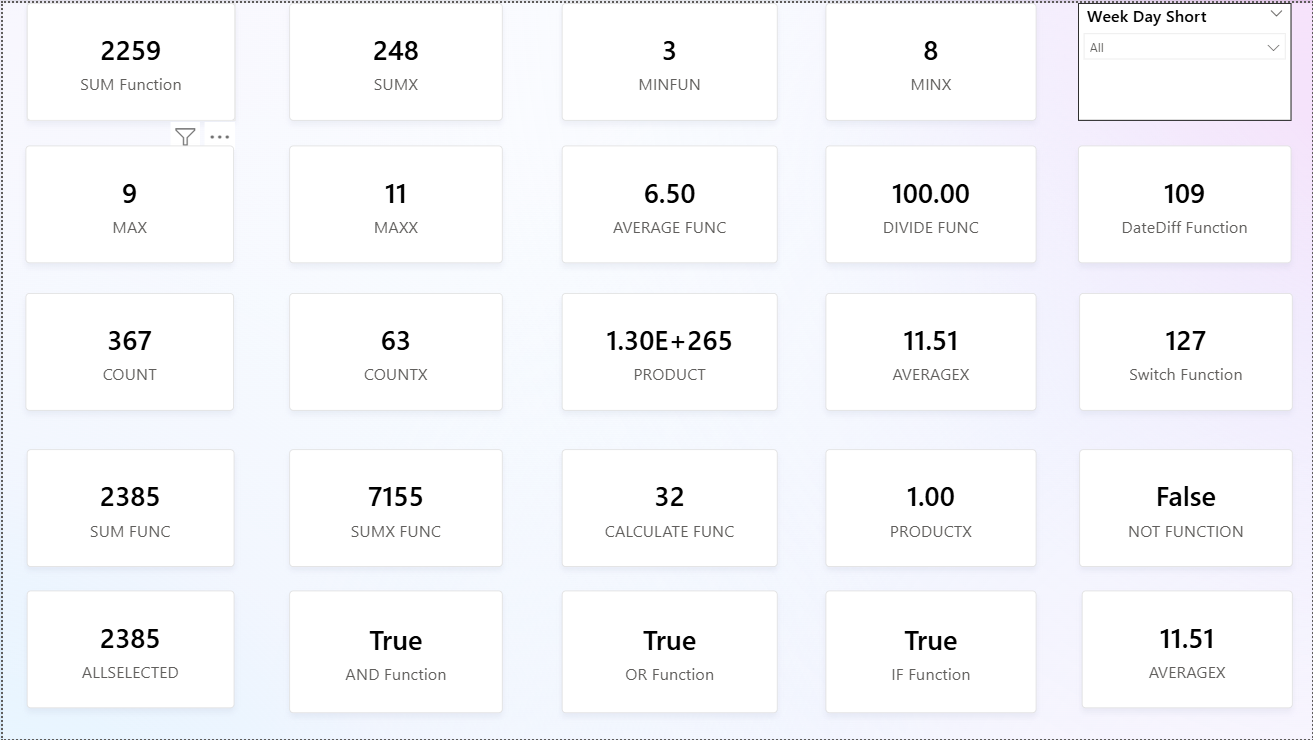

This screenshot's page, from the dashboard's own definition file:
{"tool":"powerbi","page":{"name":"DAX 1","canvas":[1280,720],"ordinal":0},"visuals":[{"type":"card","fields":{"Values":["Date Table.SUM Function"]},"box":[23.2,0,204.2,114.9],"z":0},{"type":"card","fields":{"Values":["Measures Table.SUMX"]},"box":[280,0,209.1,114.9],"z":1000},{"type":"card","fields":{"Values":["Measures Table.MINFUN"]},"box":[546.6,0,211.6,114.9],"z":2000},{"type":"card","fields":{"Values":["Measures Table.MINX"]},"box":[804.6,0,206.7,114.9],"z":3000},{"type":"card","fields":{"Values":["Measures Table.MAX"]},"box":[22,139.4,204.2,114.9],"z":4000},{"type":"card","fields":{"Values":["Measures Table.MAXX"]},"box":[280,139.4,209.1,114.9],"z":5000},{"type":"card","fields":{"Values":["Measures Table.AVERAGE FUNC"]},"box":[546.6,139.4,211.6,114.9],"z":6000},{"type":"card","fields":{"Values":["Measures Table.AVERAGEX"]},"box":[804.6,283.7,206.7,114.9],"z":7000},{"type":"card","fields":{"Values":["Measures Table.COUNT"]},"box":[22,283.7,204.2,114.9],"z":8000},{"type":"card","fields":{"Values":["Measures Table.COUNTX"]},"box":[280,283.7,209.1,114.9],"z":9000},{"type":"card","fields":{"Values":["Measures Table.PRODUCT"]},"box":[546.6,283.7,211.6,114.9],"z":10000},{"type":"card","fields":{"Values":["Measures Table.PRODUCTX"]},"box":[804.6,436.6,206.7,114.9],"z":11000},{"type":"card","fields":{"Values":["Measures Table.SUM FUNC"]},"box":[23.2,436.6,203,114.9],"z":12000},{"type":"card","fields":{"Values":["Measures Table.SUMX FUNC"]},"box":[280,436.6,209.1,114.9],"z":13000},{"type":"card","fields":{"Values":["Measures Table.CALCULATE FUNC"]},"box":[546.6,436.6,211.6,114.9],"z":14000},{"type":"card","fields":{"Values":["Measures Table.DIVIDE FUNC"]},"box":[804.6,139.4,206.7,114.9],"z":15000},{"type":"card","fields":{"Values":["Measures Table.ALLSELECTED"]},"box":[23.2,574.7,203,114.9],"z":15001},{"type":"slicer","fields":{"Values":["Date Table.Week Day Short"]},"box":[1051.6,0,209.1,114.9],"z":15002},{"type":"card","fields":{"Values":["Measures Table2 (2).AND Function"]},"box":[280,574.7,209.1,119.8],"z":15003},{"type":"card","fields":{"Values":["Measures Table2 (2).OR Function"]},"box":[546.6,574.7,211.6,119.8],"z":15004},{"type":"card","fields":{"Values":["Measures Table2 (2).IF Function"]},"box":[804.6,574.7,206.7,119.8],"z":15005},{"type":"card","fields":{"Values":["Measures Table2 (2).DateDiff Function"]},"box":[1051.6,139.4,209.1,114.9],"z":15006},{"type":"card","fields":{"Values":["Example.Switch Function"]},"box":[1052.9,283.7,209.1,114.9],"z":15007},{"type":"card","fields":{"Values":["Measures Table2 (2).NOT FUNCTION"]},"box":[1052.9,436.6,209.1,114.9],"z":15008},{"type":"card","fields":{"Values":["Measures Table.AVERAGEX"]},"box":[1055.3,574.7,206.7,114.9],"z":15009}]}

Visuals, with their boxes in screenshot pixels (x1, y1, x2, y2), scaled from the page's 1280x720 canvas onto the 1313x740 screenshot:
card - Date Table.SUM Function: Rect(24, 0, 233, 118)
card - Measures Table.SUMX: Rect(287, 0, 502, 118)
card - Measures Table.MINFUN: Rect(561, 0, 778, 118)
card - Measures Table.MINX: Rect(825, 0, 1037, 118)
card - Measures Table.MAX: Rect(23, 143, 232, 261)
card - Measures Table.MAXX: Rect(287, 143, 502, 261)
card - Measures Table.AVERAGE FUNC: Rect(561, 143, 778, 261)
card - Measures Table.AVERAGEX: Rect(825, 292, 1037, 410)
card - Measures Table.COUNT: Rect(23, 292, 232, 410)
card - Measures Table.COUNTX: Rect(287, 292, 502, 410)
card - Measures Table.PRODUCT: Rect(561, 292, 778, 410)
card - Measures Table.PRODUCTX: Rect(825, 449, 1037, 567)
card - Measures Table.SUM FUNC: Rect(24, 449, 232, 567)
card - Measures Table.SUMX FUNC: Rect(287, 449, 502, 567)
card - Measures Table.CALCULATE FUNC: Rect(561, 449, 778, 567)
card - Measures Table.DIVIDE FUNC: Rect(825, 143, 1037, 261)
card - Measures Table.ALLSELECTED: Rect(24, 591, 232, 709)
slicer - Date Table.Week Day Short: Rect(1079, 0, 1293, 118)
card - Measures Table2 (2).AND Function: Rect(287, 591, 502, 714)
card - Measures Table2 (2).OR Function: Rect(561, 591, 778, 714)
card - Measures Table2 (2).IF Function: Rect(825, 591, 1037, 714)
card - Measures Table2 (2).DateDiff Function: Rect(1079, 143, 1293, 261)
card - Example.Switch Function: Rect(1080, 292, 1295, 410)
card - Measures Table2 (2).NOT FUNCTION: Rect(1080, 449, 1295, 567)
card - Measures Table.AVERAGEX: Rect(1083, 591, 1295, 709)
